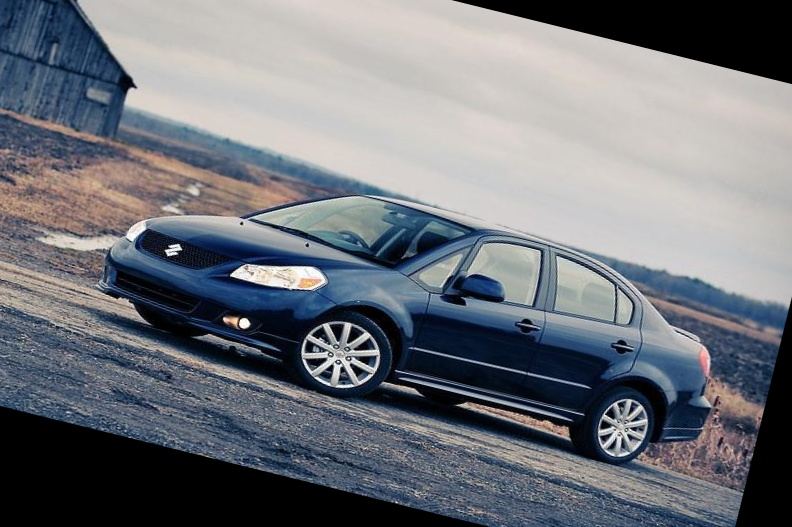car: (66, 107, 764, 514)
